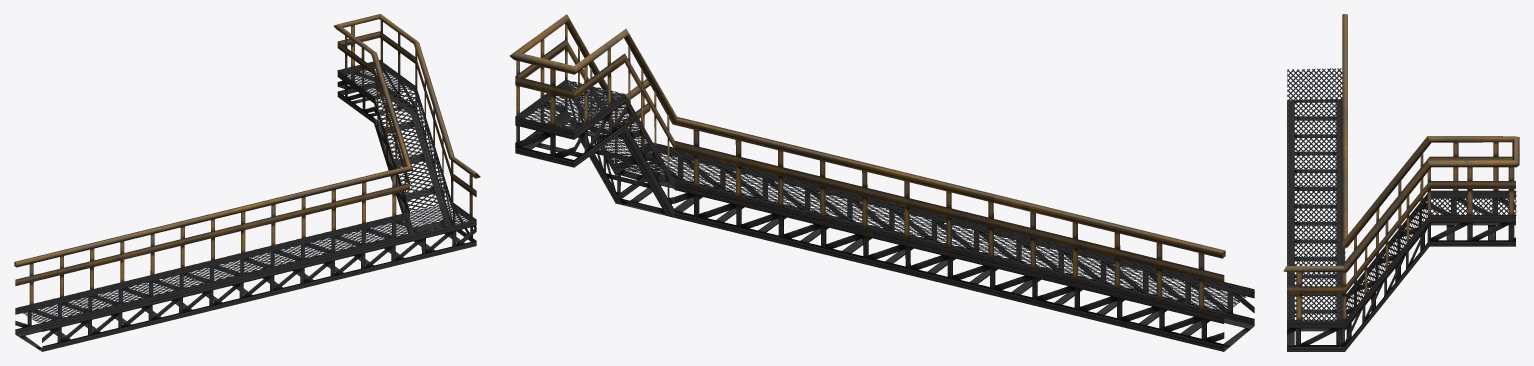
File: Factory_qianjing.FBX
3 renders of one model, left to right at view 1: azimuth 30°, elevation 25°; view 2: azimuth 150°, elevation 25°; view 3: azimuth 270°, elevation 25°, orthographic. The views are drawn at different scales.
Visible parts, largest first — view 1: Object002, Object003; view 2: Object002, Object003; view 3: Object002, Object003.
Part boxes in pixels (x1,y1,x2,y2): Object002: (14, 14, 480, 351); Object003: (16, 60, 474, 325); Object002: (509, 14, 1254, 351); Object003: (515, 79, 1253, 315); Object002: (1283, 14, 1519, 351); Object003: (1287, 68, 1516, 320).
Bounding box in the file's own units: 10.35 × 4.07 × 3.64.
